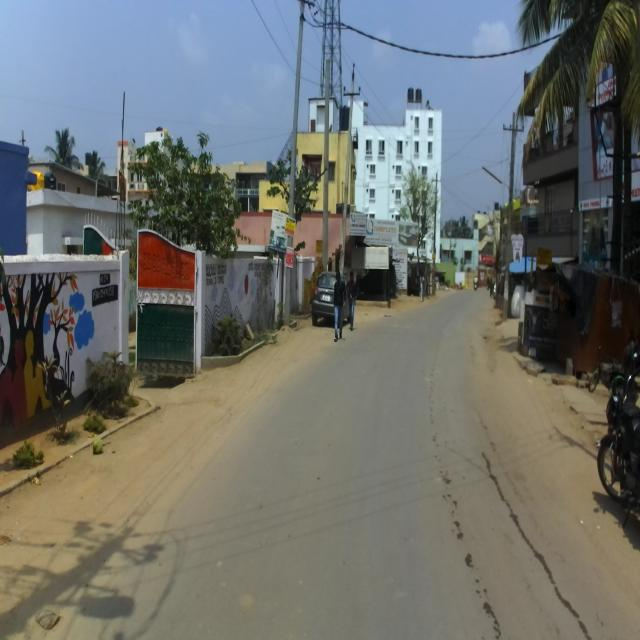gate ahead at: (134, 222, 198, 383)
motorcycle ahead at: (598, 348, 640, 512)
person ahead at: (332, 268, 357, 346)
